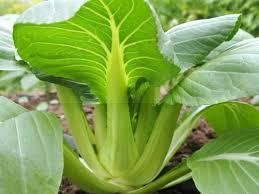Healthy-Pechay: (2, 1, 251, 188)
